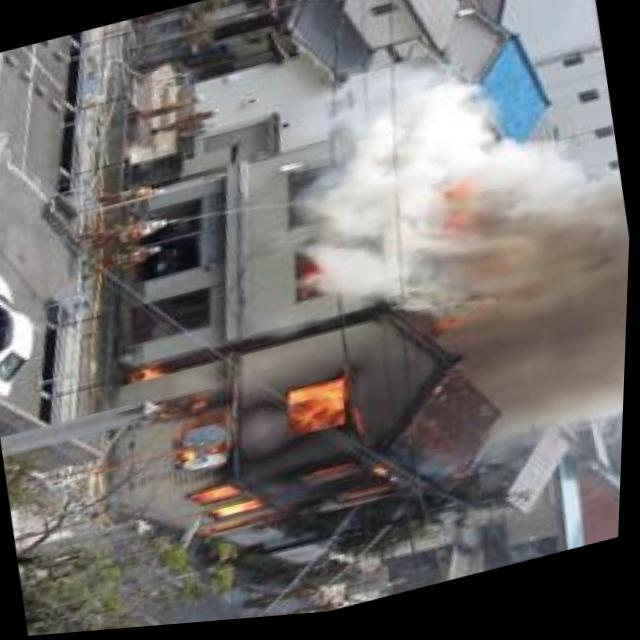Fire: (108, 298, 431, 578)
